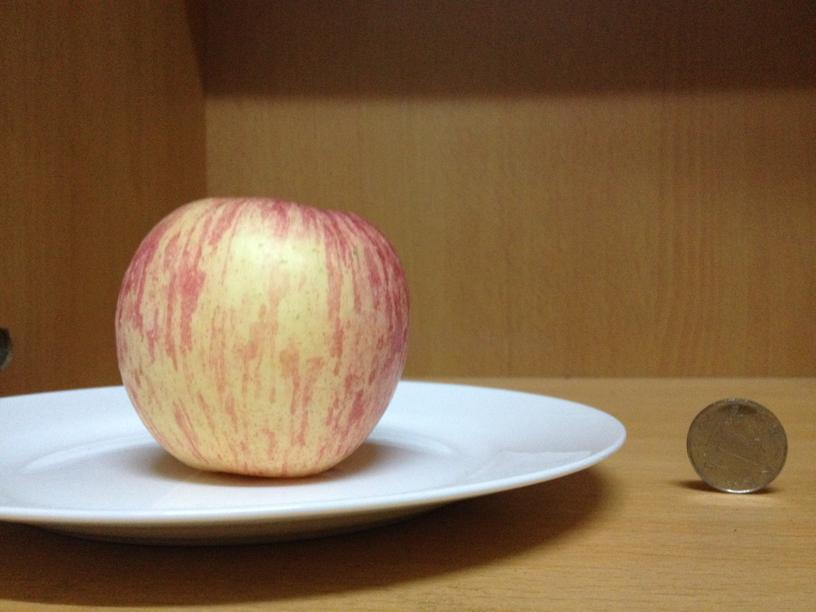apple: (107, 198, 411, 479)
coin: (684, 396, 790, 493)
